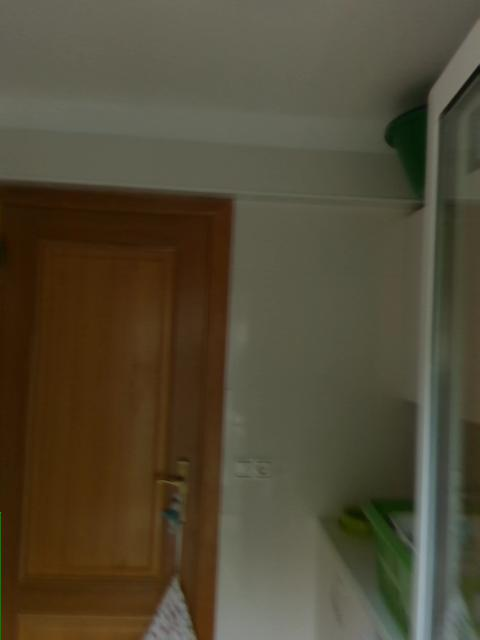door: (0, 175, 234, 639)
